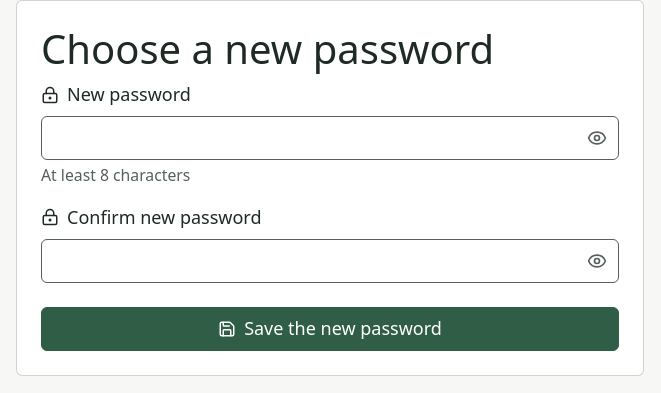
ResetPasswordPage › server answers › any other 400 from confirm is treated as a bad link too
Type "my-own-secret-pw" into the password field labelled "New password" at coordinates (330, 138), box 41,116 -> 619,160
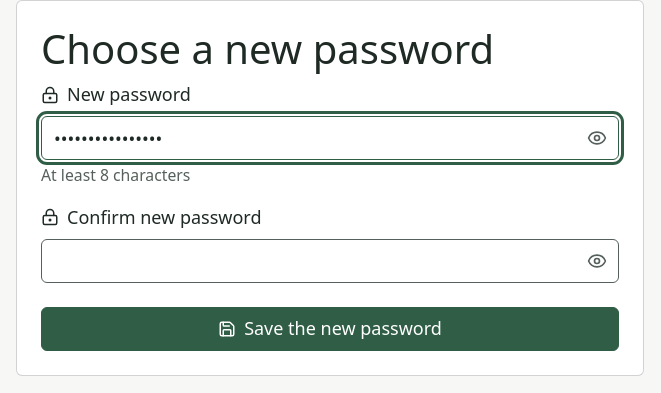
Type "my-own-secret-pw" into the password field labelled "Confirm new password" at coordinates (330, 261), box 41,239 -> 619,283
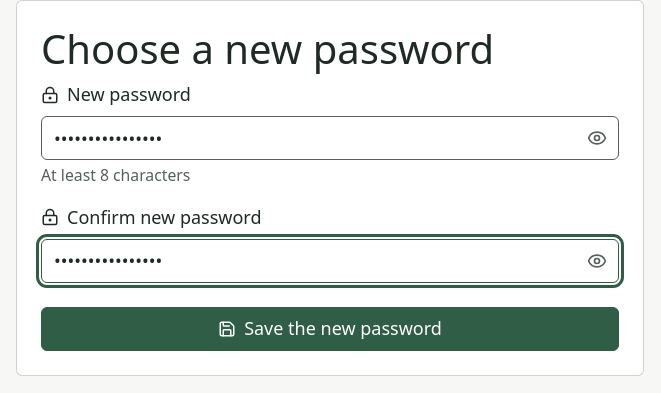
Click the button "Save the new password" at coordinates (330, 329), box 41,307 -> 619,351
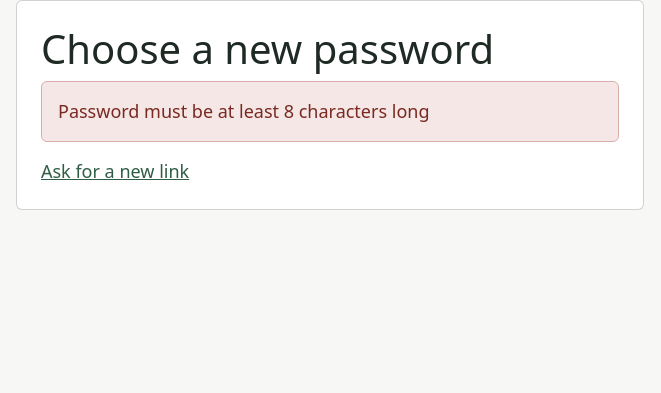
Now the message reads "Password must be at least 8 characters long", box 58,99 -> 430,123
Now the label labelled "Confirm new password" is gone
Now the button "Save" is gone
